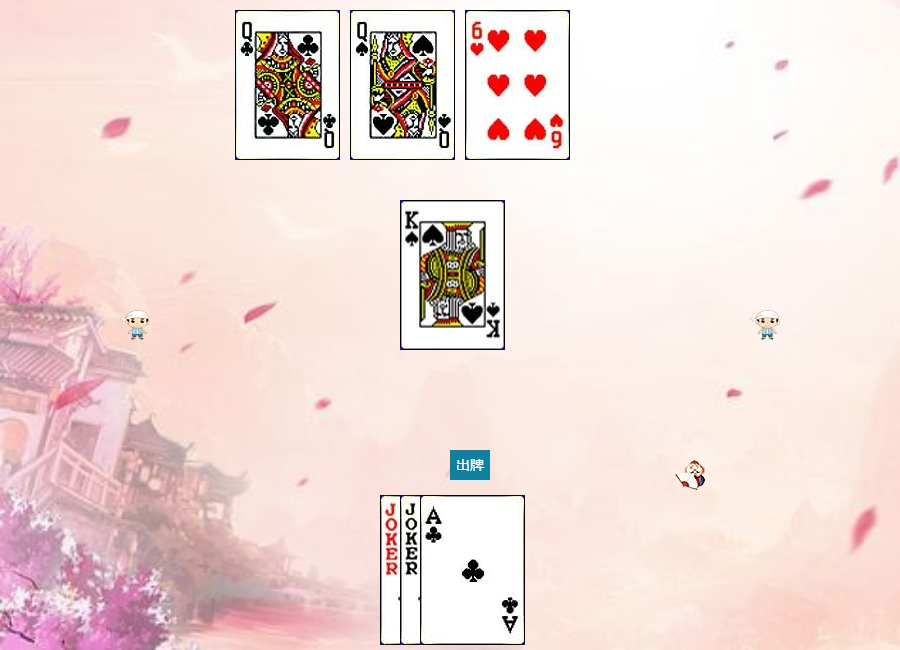12~2: (235, 10, 340, 160)
12~4: (350, 10, 455, 160)
13~4: (400, 200, 505, 350)
14~2: (420, 495, 525, 645)
17~3: (400, 495, 505, 645)
18~4: (380, 495, 485, 645)
6~3: (465, 10, 570, 160)
